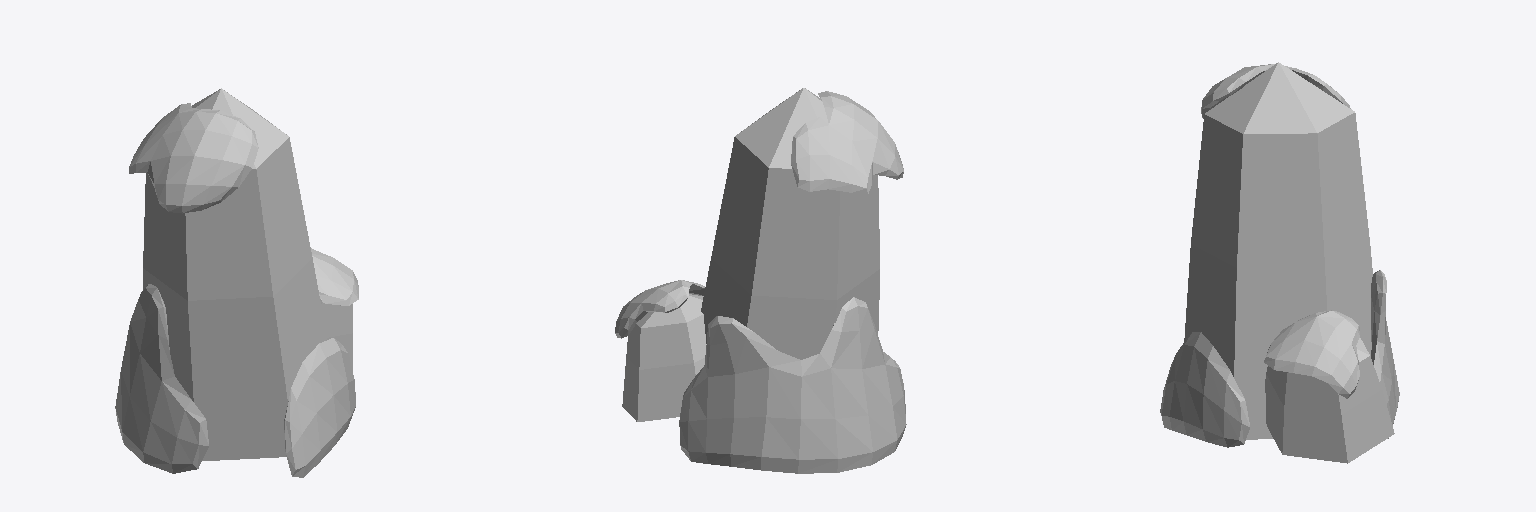
Rendered from ice_rock_3.obj.
3 views of the same model, side by side, from view 1: azimuth 30°, elevation 25°; view 2: azimuth 150°, elevation 25°; view 3: azimuth 270°, elevation 25° (orthographic).
Visible parts, largest first — view 1: ice_crystal.002_Cube.006, snow.002_Cube.007; view 2: snow.002_Cube.007, ice_crystal.002_Cube.006; view 3: ice_crystal.002_Cube.006, snow.002_Cube.007.
Part boxes in pixels (left/top/right/bottom): ice_crystal.002_Cube.006: left=143, top=88, right=352, bottom=460; snow.002_Cube.007: left=115, top=103, right=358, bottom=477; snow.002_Cube.007: left=615, top=91, right=906, bottom=473; ice_crystal.002_Cube.006: left=622, top=88, right=879, bottom=421; ice_crystal.002_Cube.006: left=1184, top=62, right=1394, bottom=463; snow.002_Cube.007: left=1160, top=64, right=1399, bottom=447.
Bounding box in the file's own units: 2.69 × 3.76 × 2.31.